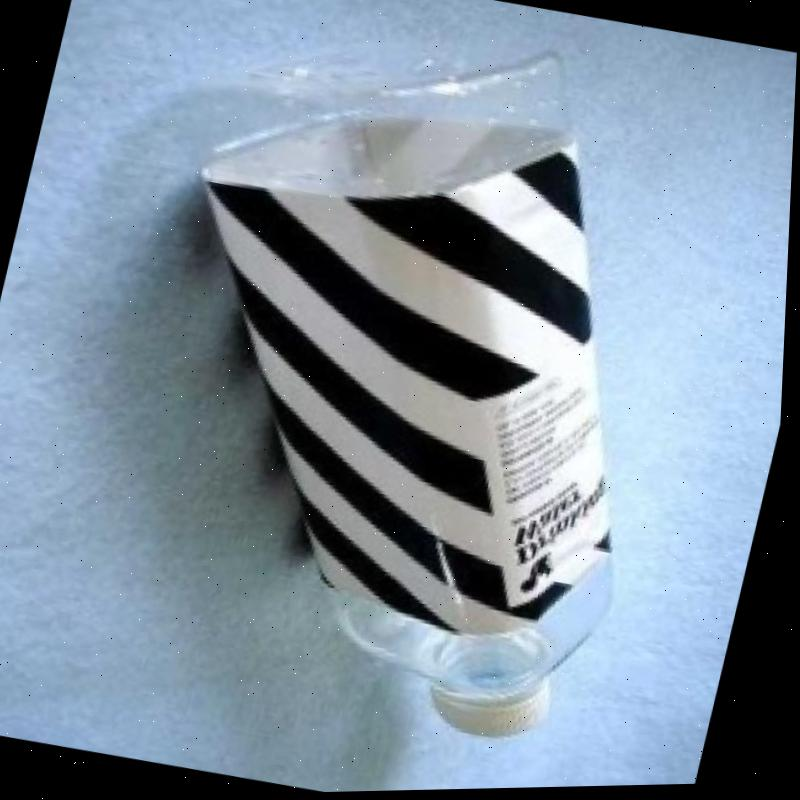botella: (73, 0, 739, 763)
